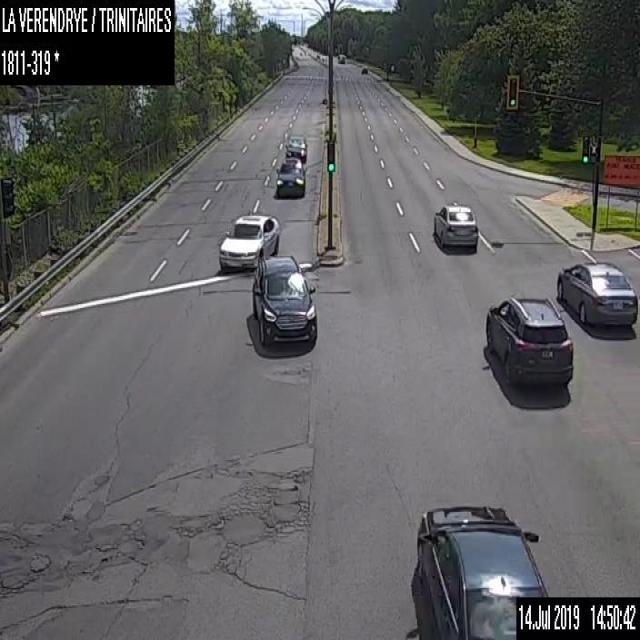bus: (337, 52, 345, 63)
vehicle: (412, 501, 547, 639), (482, 295, 574, 385), (251, 254, 318, 345), (554, 260, 636, 327), (217, 212, 279, 270), (432, 201, 478, 248), (275, 156, 306, 196), (284, 134, 307, 162), (360, 67, 368, 73)
